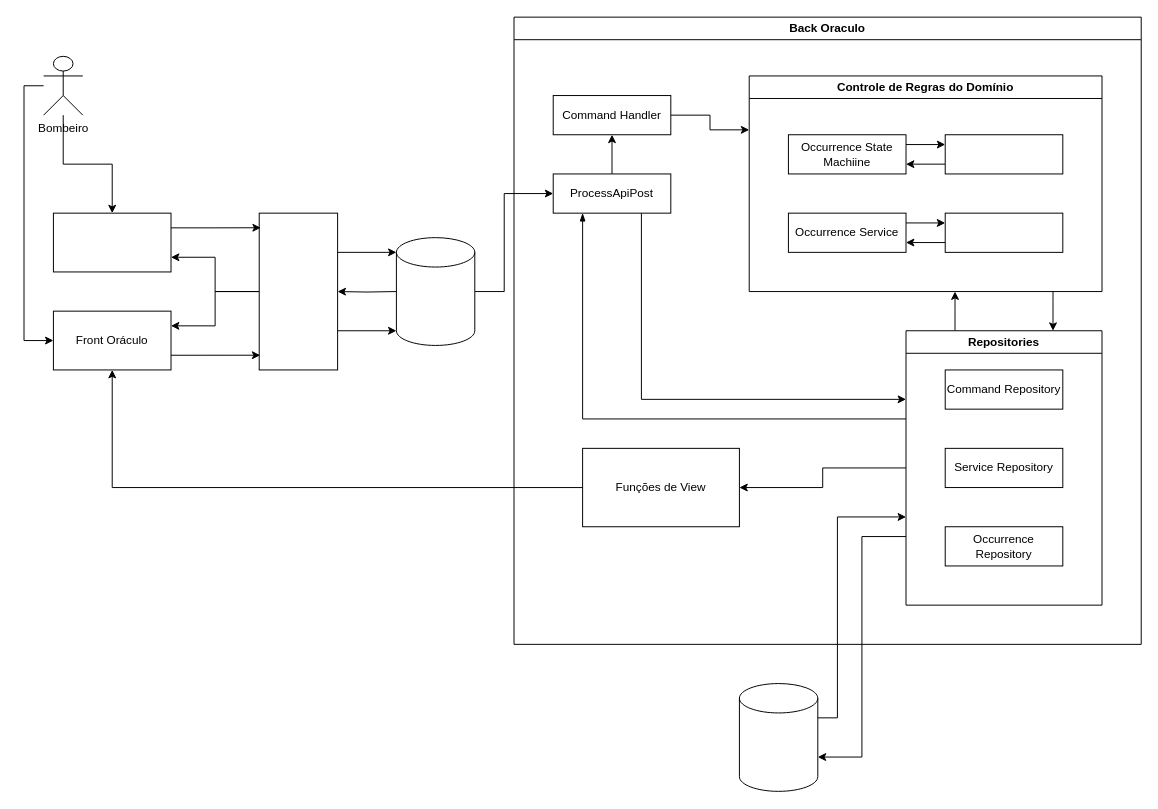
Some shapes in this 1158 by 809 pixel diagram are drawn without their labels. The centre of each missing label's shape, as x and y in pixels:
"Adaptador" belongs at point (298, 291).
"Banco Postgress" belongs at point (778, 737).
"Banco Redis" belongs at point (435, 291).
"Dispatch Service" belongs at point (1003, 232).
"Dispatch State Machiine" belongs at point (1003, 154).
"Sistema terceiro" belongs at point (111, 242).
